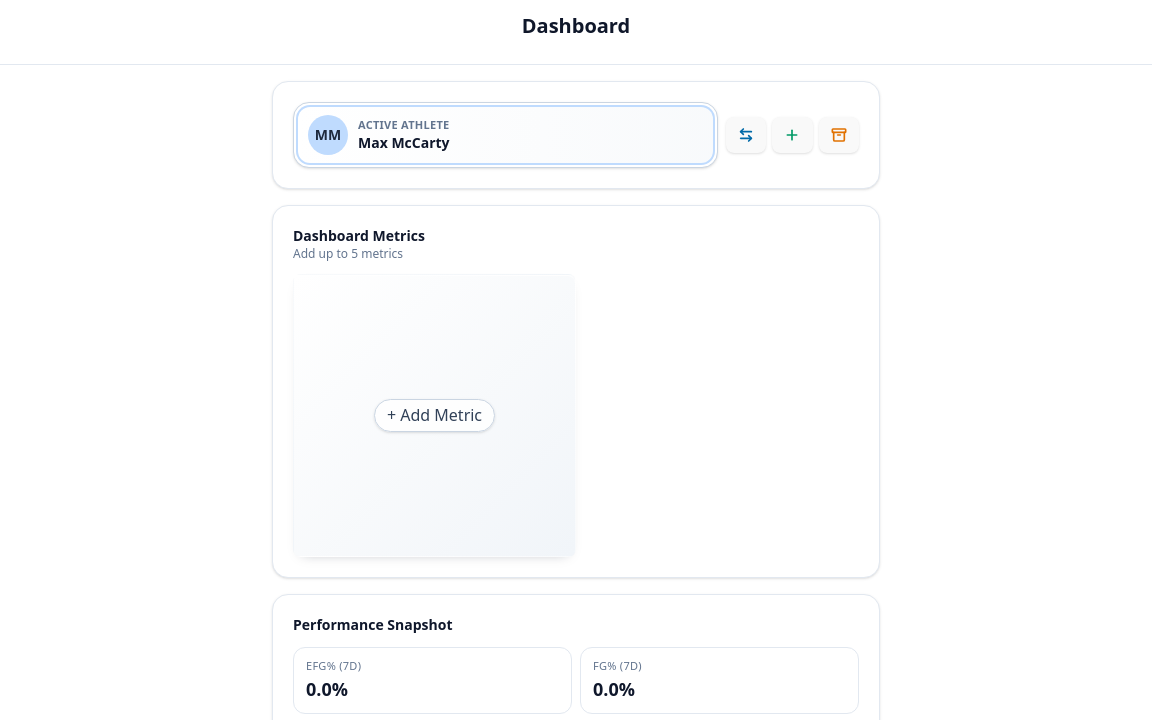
Dashboard › switches active athlete from selector and reloads metrics
Step 1. Click the button named "Switch athlete" → x=746, y=135, box [726, 117, 766, 153]
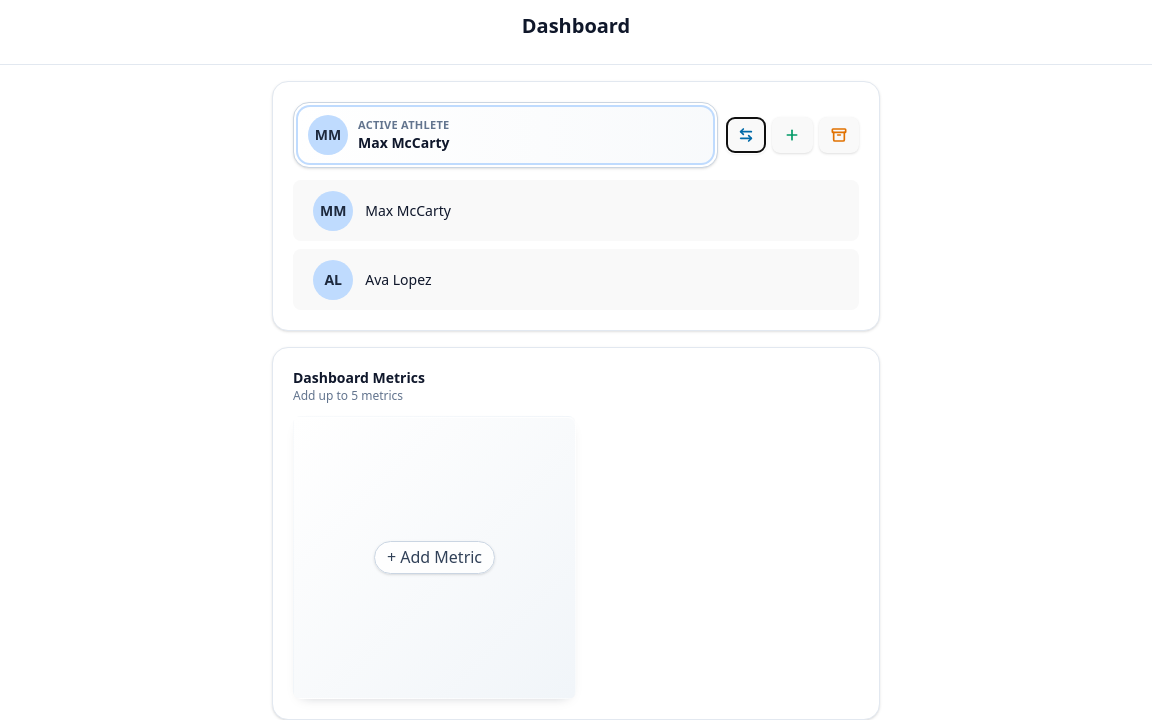
Step 2. Click the button "AL Ava Lopez" → x=333, y=280, box [293, 249, 859, 310]
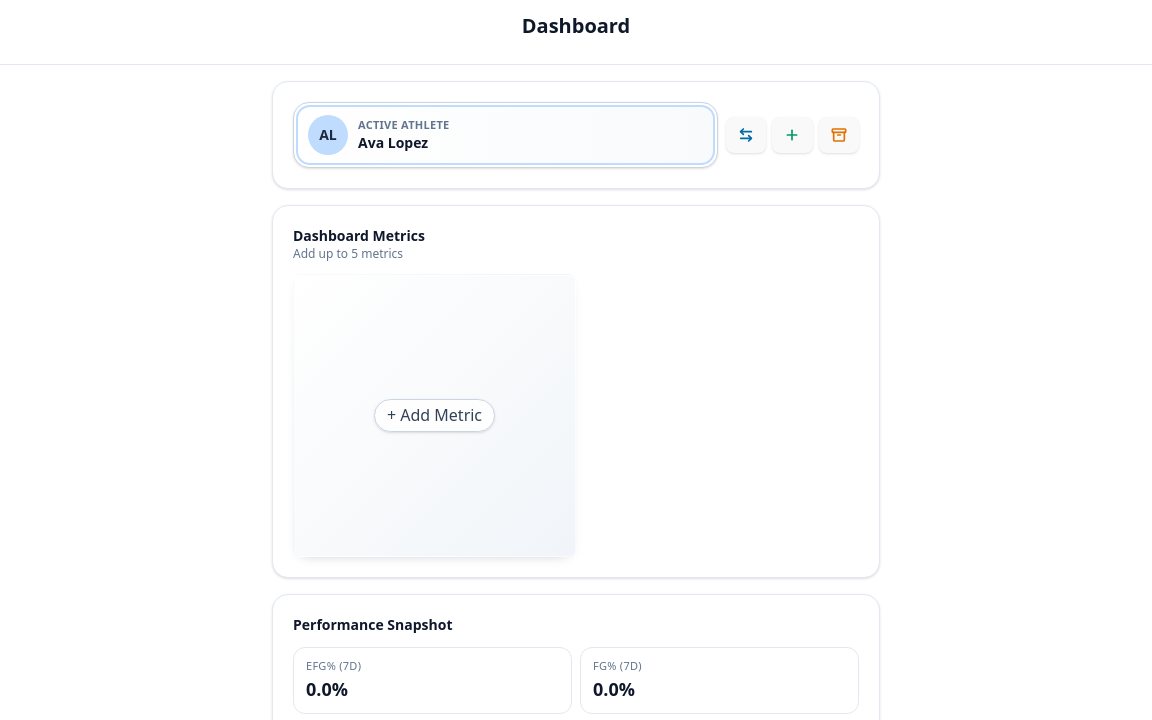
Now the text "Ava Lopez" is shown, box [358, 133, 428, 152]
